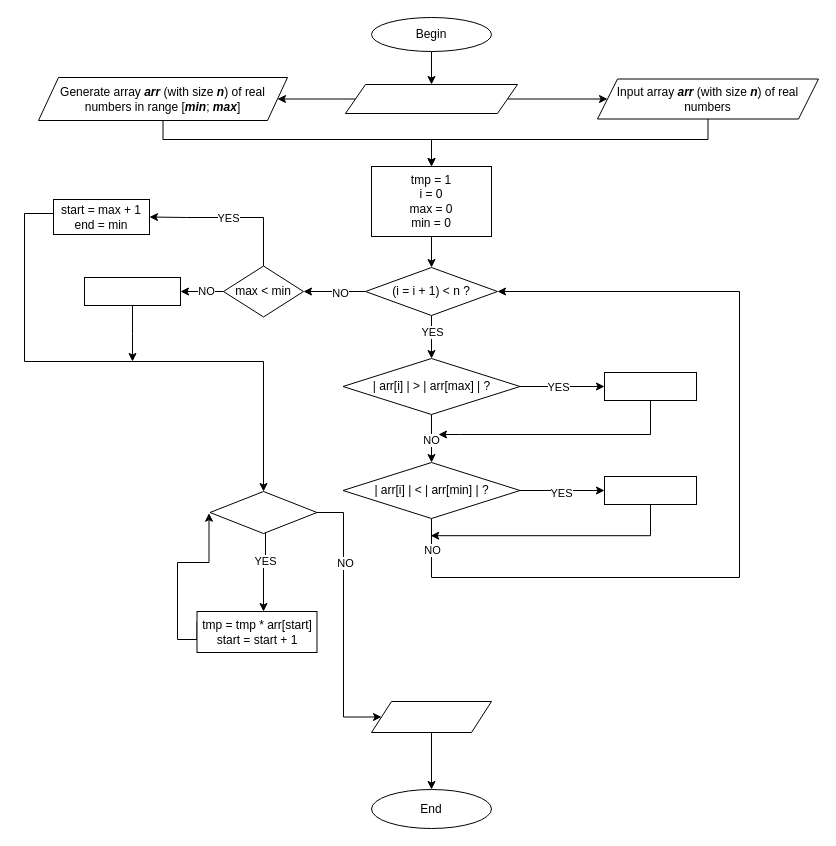
This 836x846 diagram has some shape labels left out. Each missing label, with the box of its shape:
Input size n of array: (344, 84, 518, 114)
max = i: (604, 372, 696, 400)
min = i: (604, 476, 696, 504)
Output tmp: (370, 700, 492, 732)
start < end ?: (209, 490, 317, 534)
start = min + 1 end = max: (84, 276, 180, 306)
